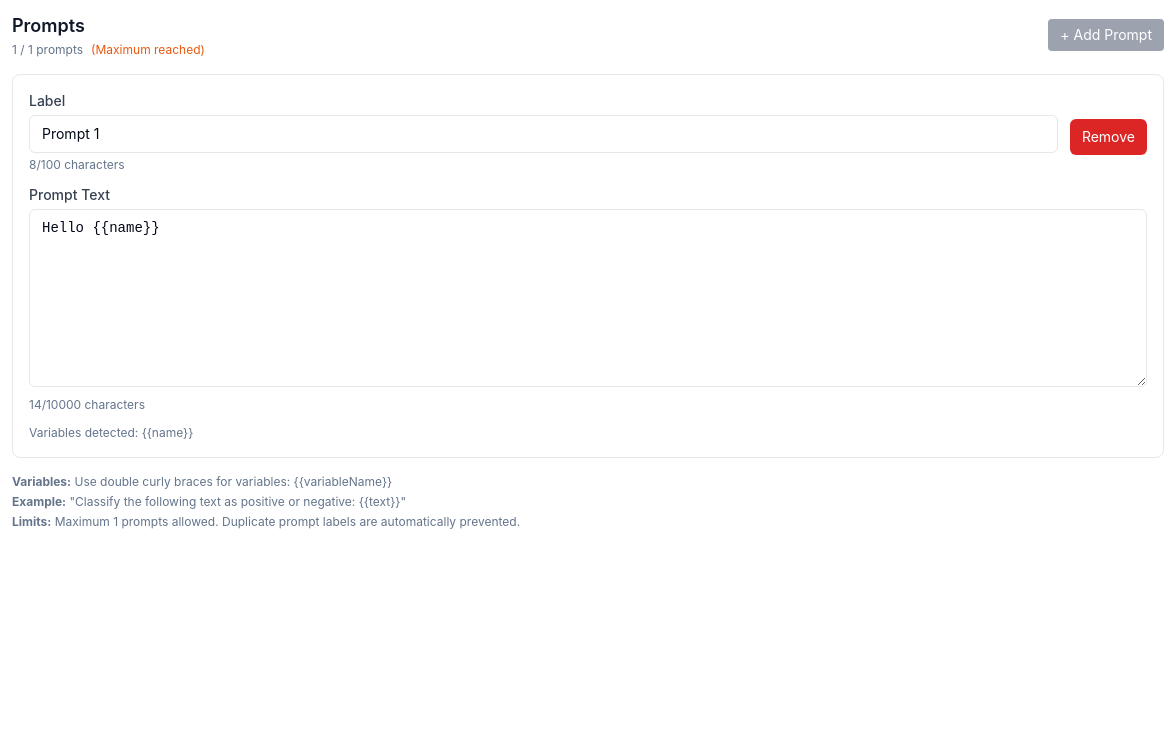
it: PromptsForm › Removing Prompts › should show success toast after removing
Click the button "Remove" at (1108, 137), box x1=1070 y1=119 x2=1147 y2=155
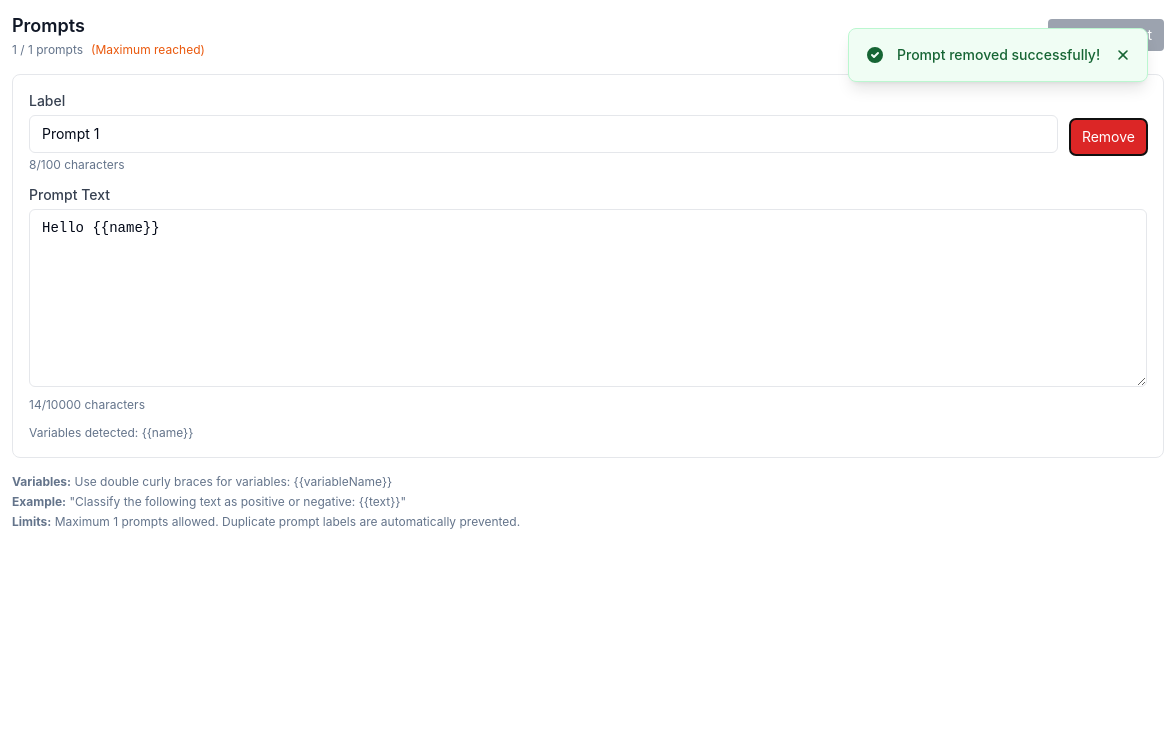
Now the text "Prompt removed successfully!" is shown, box x1=897 y1=45 x2=1103 y2=65
